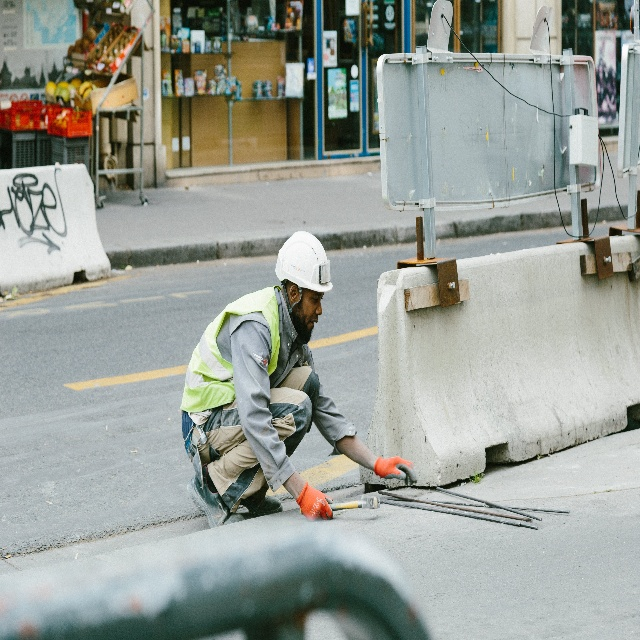Guantes: (296, 482, 333, 521), (374, 454, 417, 485)
